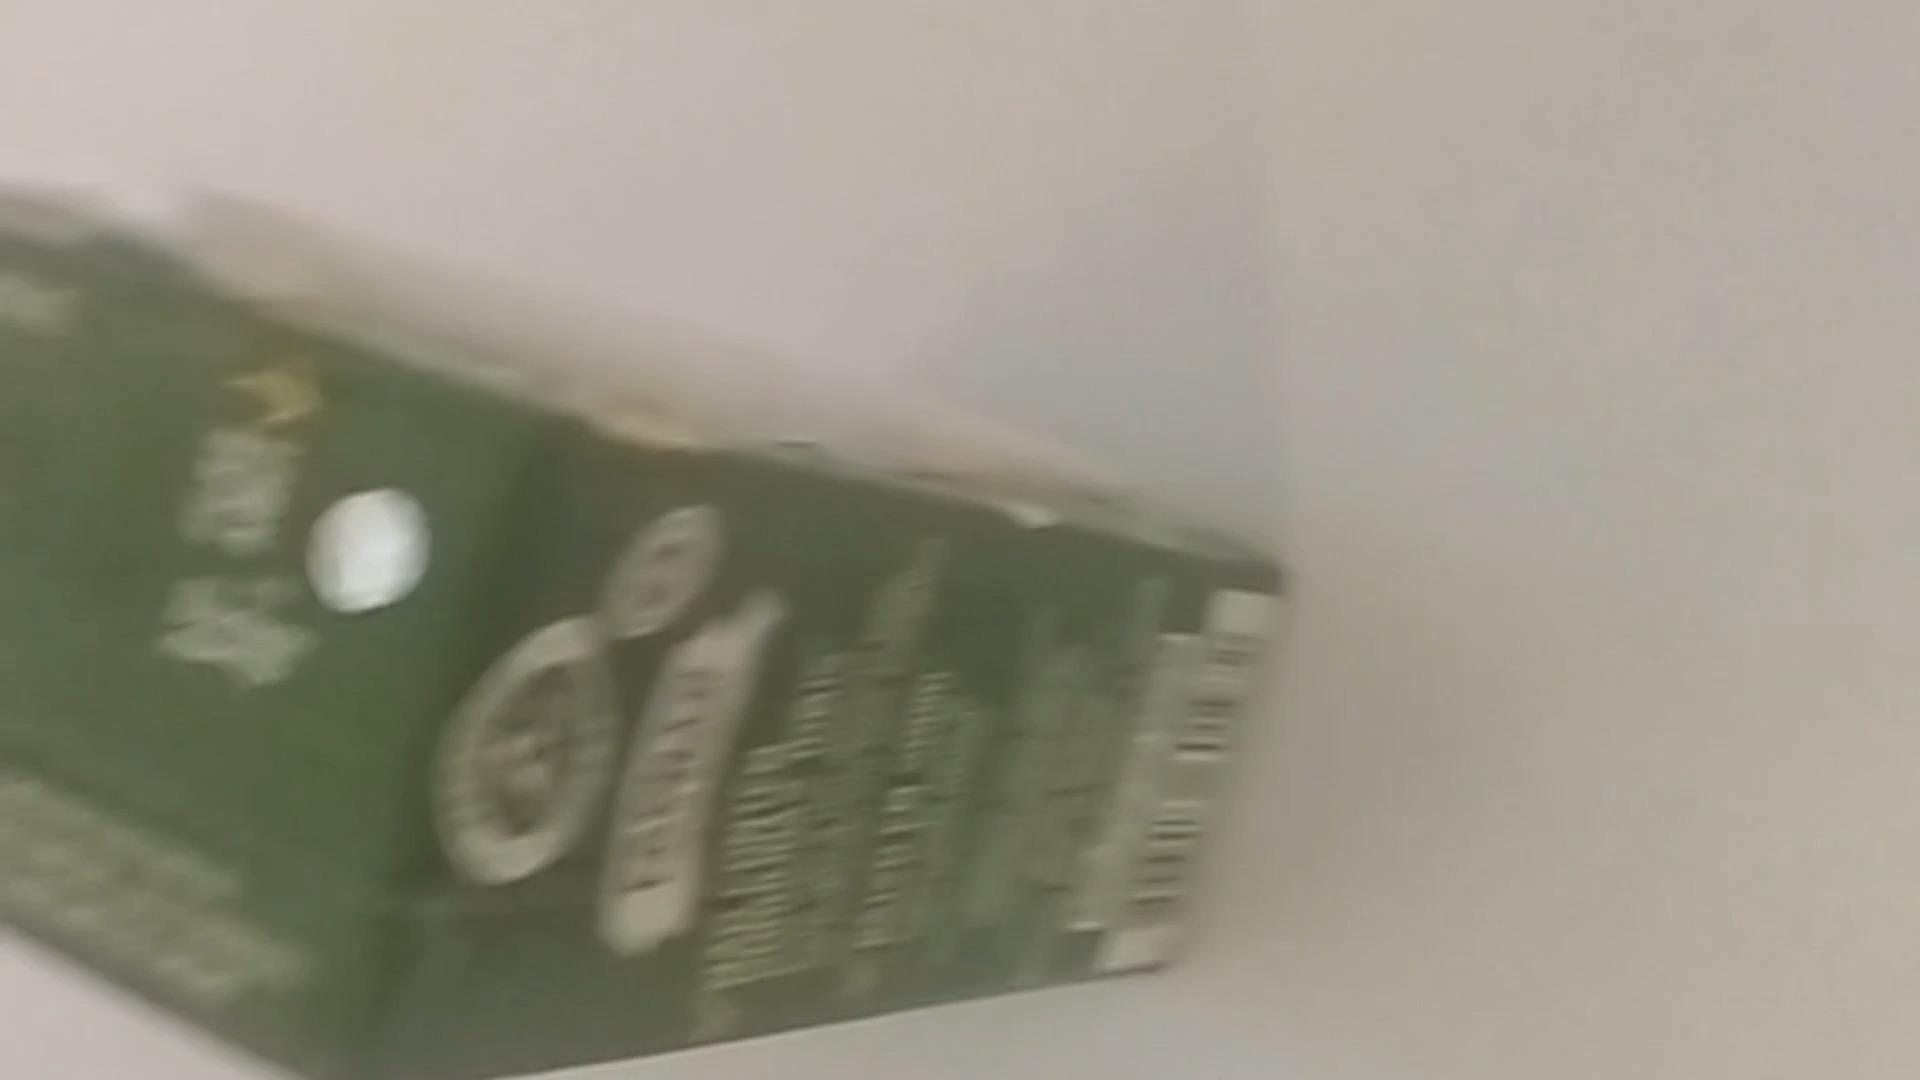coco: (7, 171, 1280, 1080)
